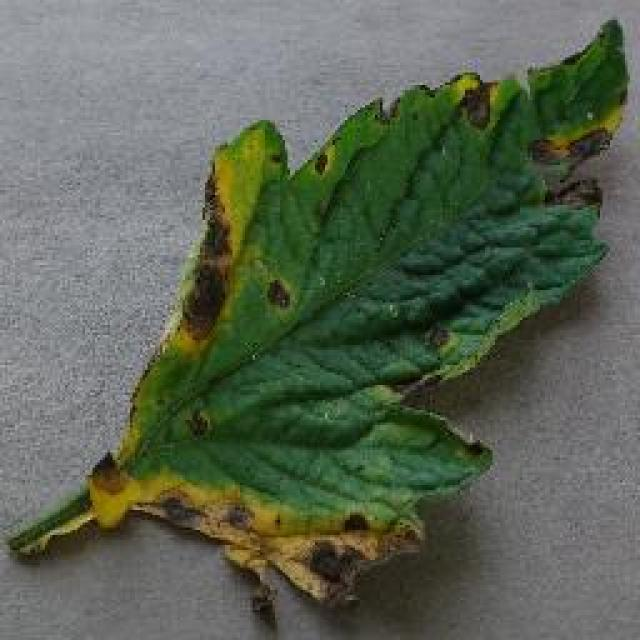Tomato___Early_blight: (8, 17, 628, 632)
